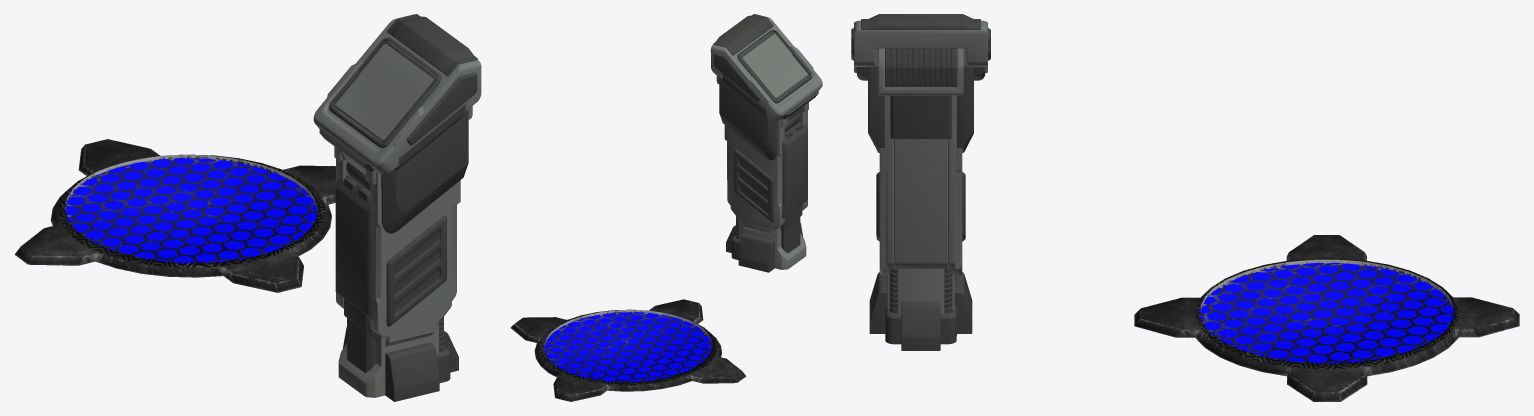
The model's file is Teleporter_Monitor.fbx.
3 views of the same model, side by side, from view 1: azimuth 30°, elevation 25°; view 2: azimuth 150°, elevation 25°; view 3: azimuth 270°, elevation 25° (orthographic). The views are drawn at different scales.
Parts seen in each view (by area): view 1: Monitor, Teleporter; view 2: Monitor, Teleporter; view 3: Monitor, Teleporter.
Boxes of the visible parts, x1,y1,x2,y2 form: Monitor: [313, 14, 481, 401]; Teleporter: [14, 139, 335, 292]; Monitor: [710, 14, 822, 272]; Teleporter: [510, 299, 746, 401]; Monitor: [851, 14, 990, 350]; Teleporter: [1134, 235, 1519, 401].
Bounding box in the file's own units: 39.12 × 36.39 × 67.85.
